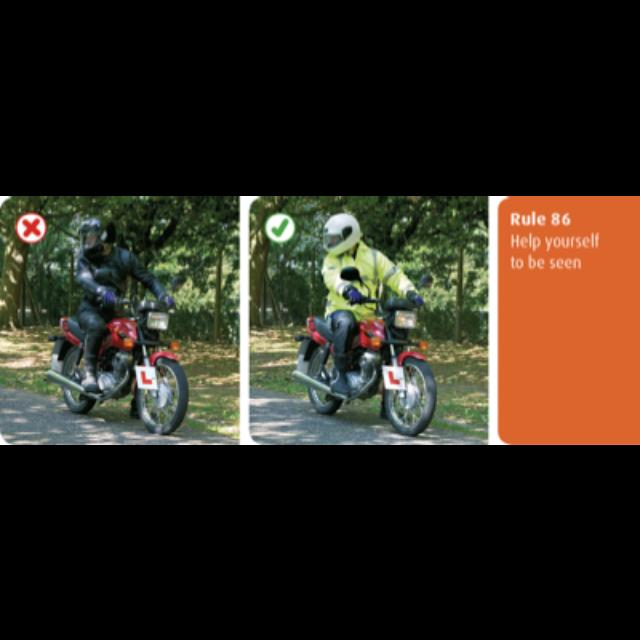With Helmet: (75, 211, 118, 257), (318, 208, 364, 250)
